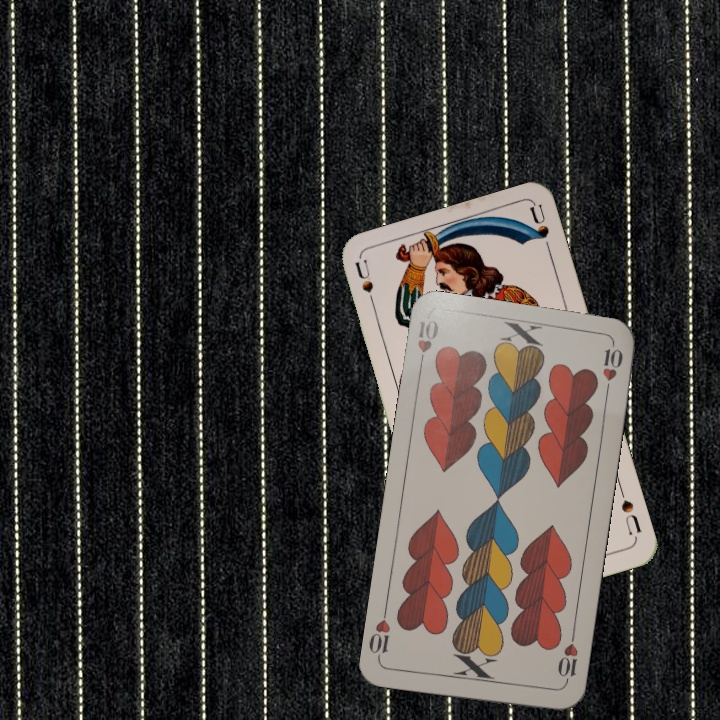H10: (553, 628, 581, 687), (413, 316, 441, 373)
SU: (351, 257, 380, 316), (615, 483, 644, 538)
